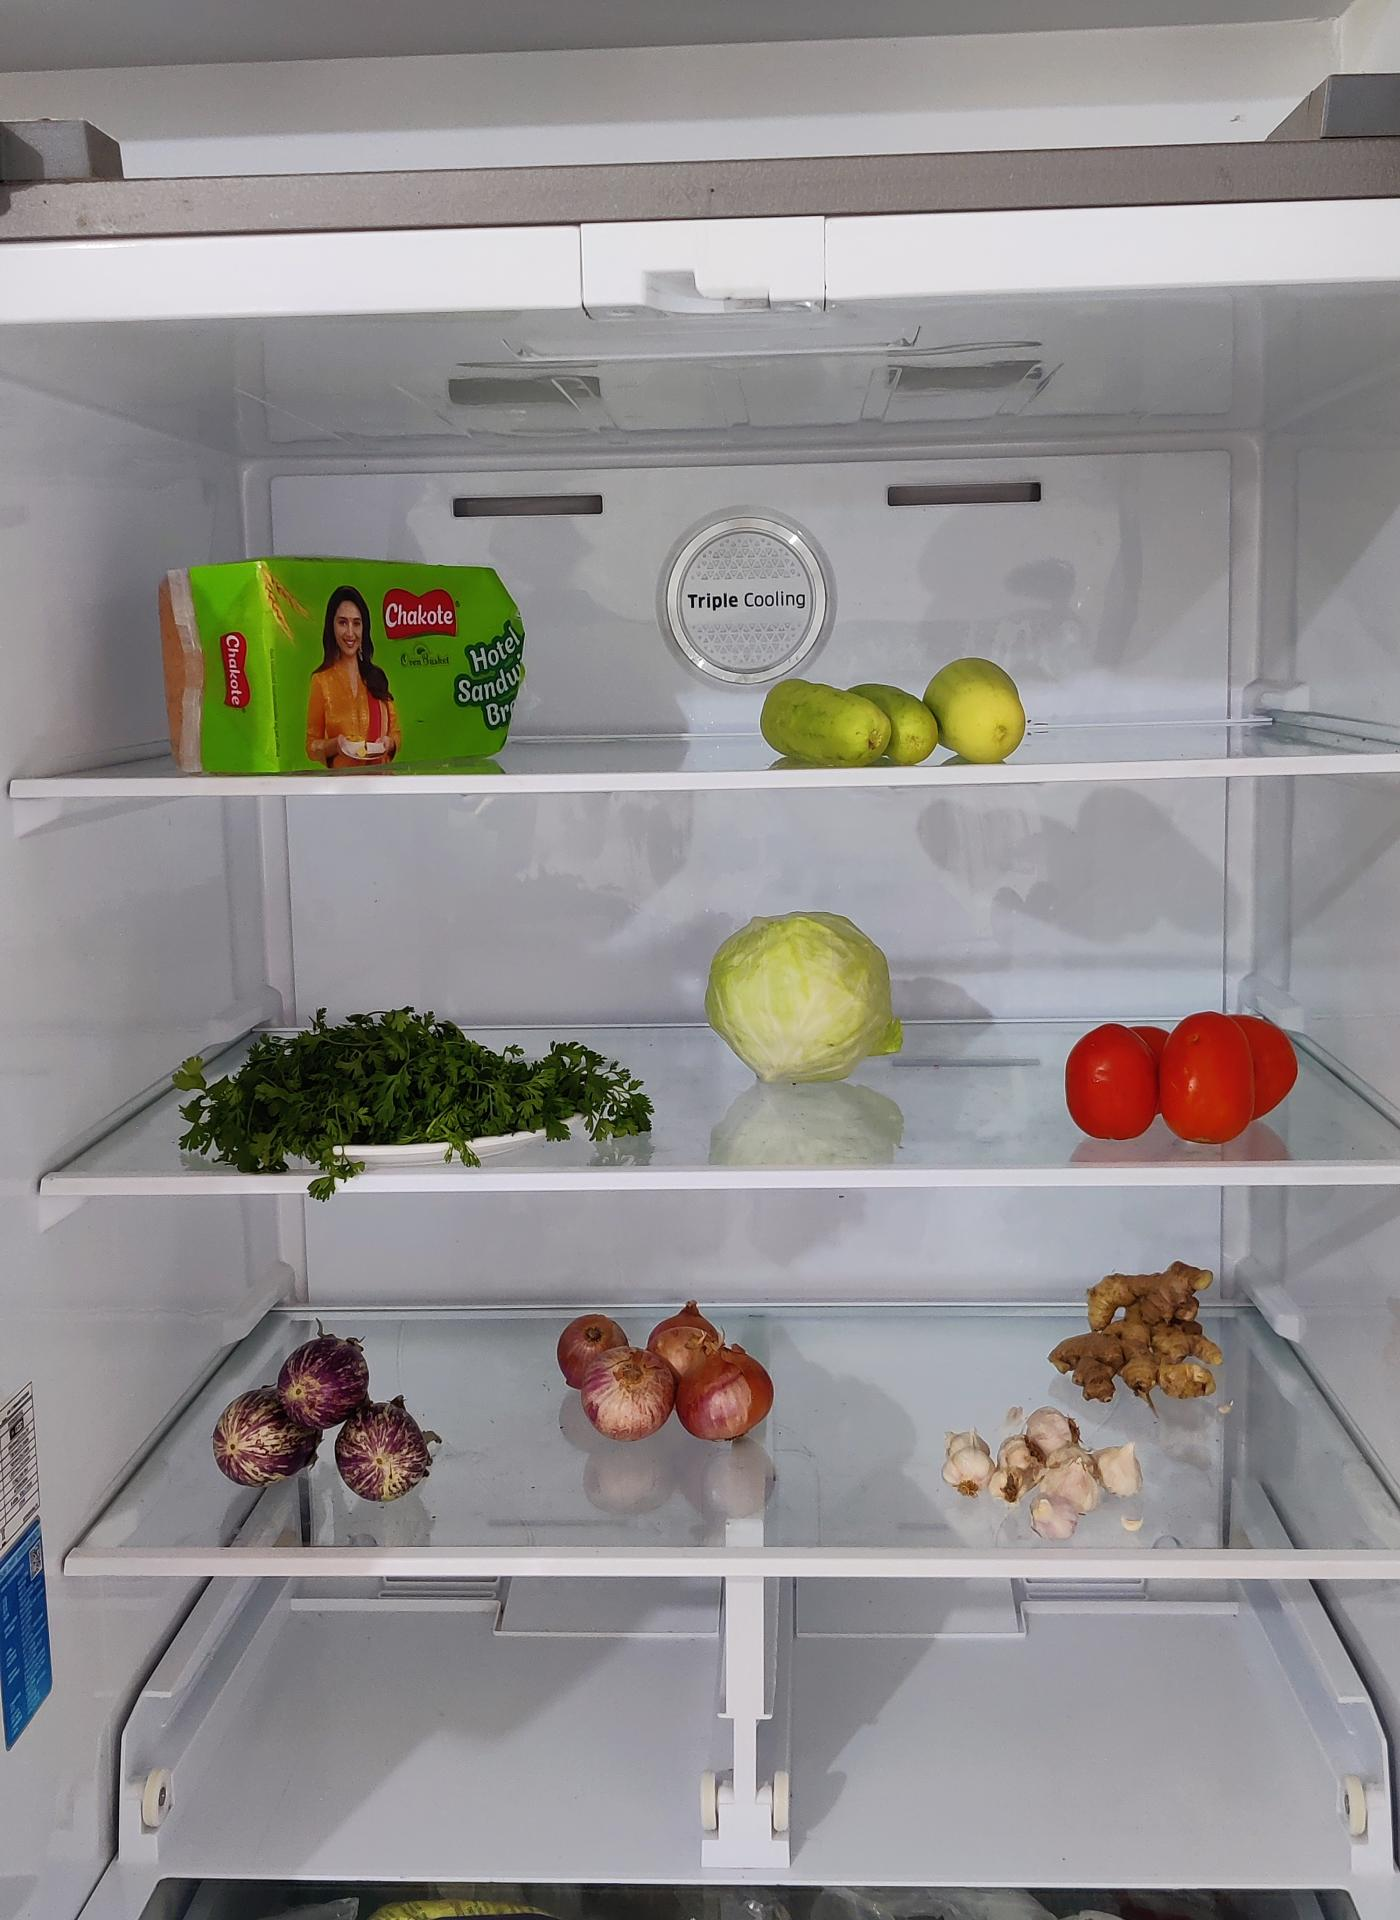bread: (143, 549, 528, 777), (1, 1376, 49, 1755)
brinjal: (201, 1327, 431, 1507)
cabbage: (702, 915, 899, 1093)
coriander: (177, 1015, 652, 1161)
cucumber: (757, 660, 1035, 772)
ginger: (939, 1388, 1138, 1520), (1053, 1263, 1230, 1409)
onion: (553, 1310, 772, 1447)
tomato: (1062, 1006, 1299, 1143)
